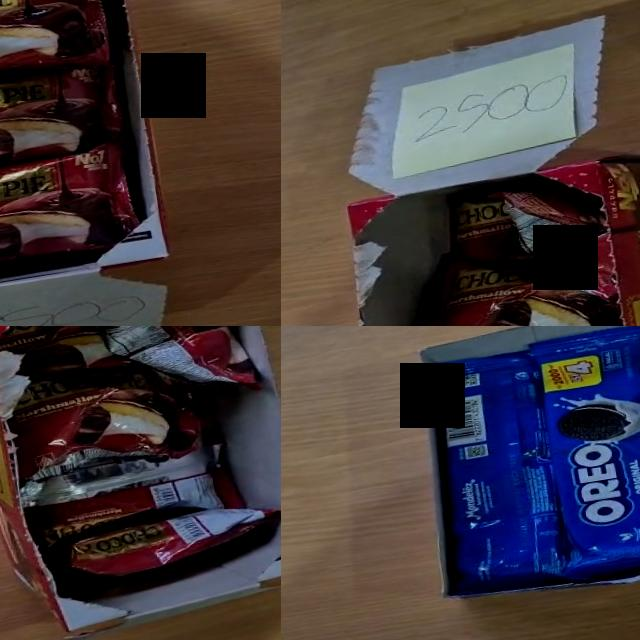Chocopie: (0, 356, 208, 490), (15, 437, 248, 551), (44, 491, 281, 590), (0, 140, 145, 279), (0, 58, 128, 185), (88, 326, 263, 413), (425, 259, 619, 326), (502, 185, 614, 297), (0, 0, 115, 99), (0, 326, 135, 388), (449, 191, 523, 262)
Oreo: (416, 347, 576, 603), (526, 326, 640, 583)
